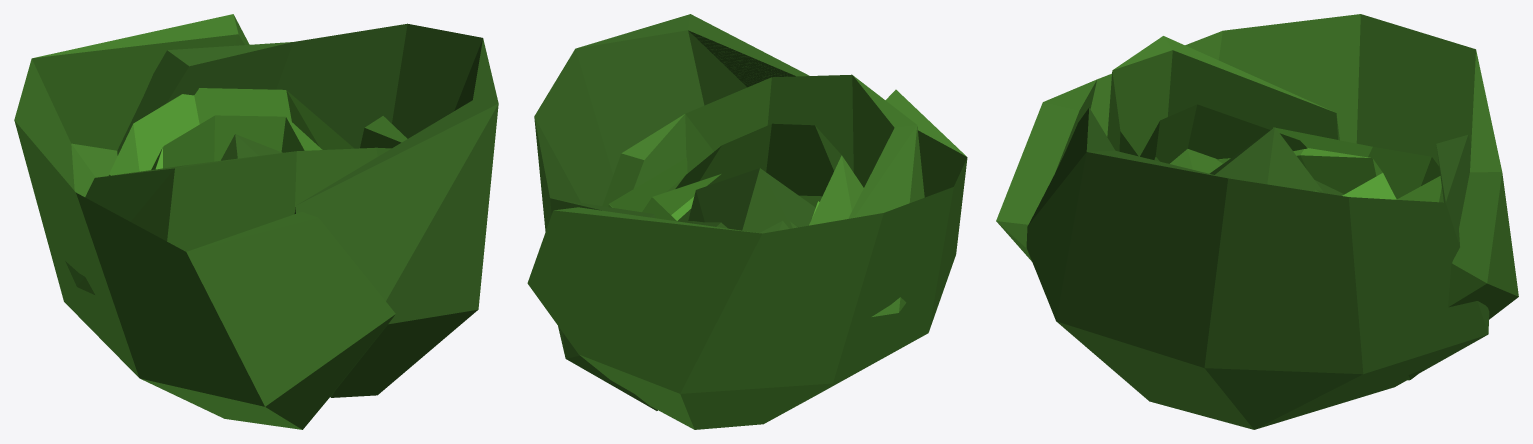
File: repolhos.fbx
The picture shows the model from 3 angles, left to right: view 1: azimuth 30°, elevation 25°; view 2: azimuth 150°, elevation 25°; view 3: azimuth 270°, elevation 25°; orthographic projection. The views are drawn at different scales.
Visible parts, largest first — view 1: repolho.003, repolho.001, repolho, repolho.002; view 2: repolho.003, repolho.001, repolho, repolho.002; view 3: repolho.001, repolho.003, repolho, repolho.002.
Part boxes in pixels (x1=…): repolho.003: x1=14, y1=14, x2=482, y2=429; repolho.001: x1=65, y1=38, x2=498, y2=397; repolho: x1=151, y1=115, x2=322, y2=169; repolho.002: x1=221, y1=134, x2=282, y2=160; repolho.003: x1=527, y1=30, x2=967, y2=429; repolho.001: x1=534, y1=14, x2=924, y2=410; repolho: x1=642, y1=123, x2=863, y2=233; repolho.002: x1=688, y1=168, x2=815, y2=232; repolho.001: x1=1026, y1=36, x2=1489, y2=429; repolho.003: x1=996, y1=14, x2=1518, y2=380; repolho: x1=1140, y1=104, x2=1396, y2=199; repolho.002: x1=1209, y1=127, x2=1322, y2=191.
Size of the model in its own units: 85.41 by 63.13 by 94.19.
